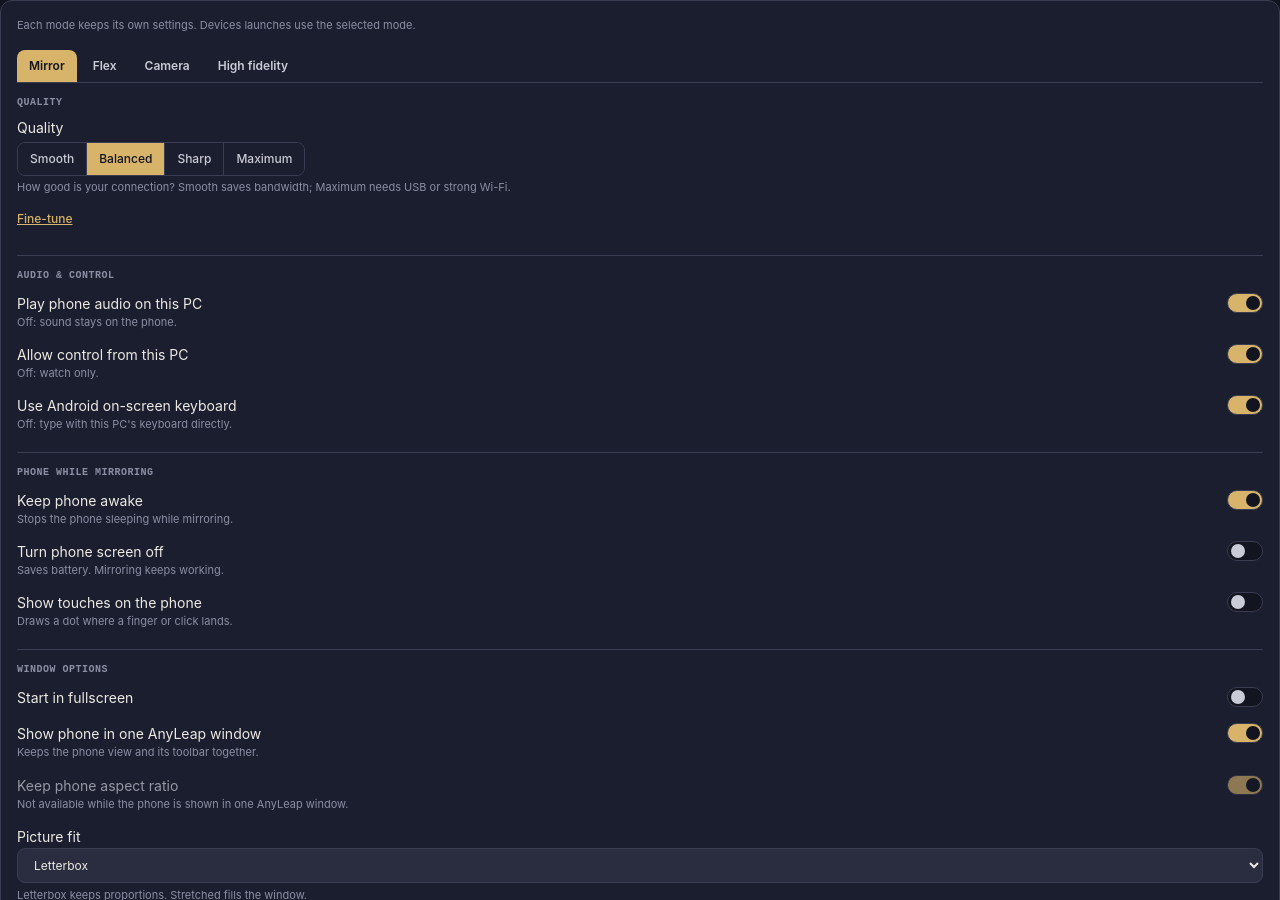
Test: PhoneMirroringSection › renders Scrolling group with style, speed, Touchpad speed, and Smooth scrolling switch, disables controls under Paged, and hides Phase 3
The width and height of the screenshot is (1280, 900).
# High fidelity defaults Smooth scrolling to off.
What coordinates should you click on to do the following:
click the tab "High fidelity"
I would click on:
 (253, 66)
Its box is [206,50,300,82].
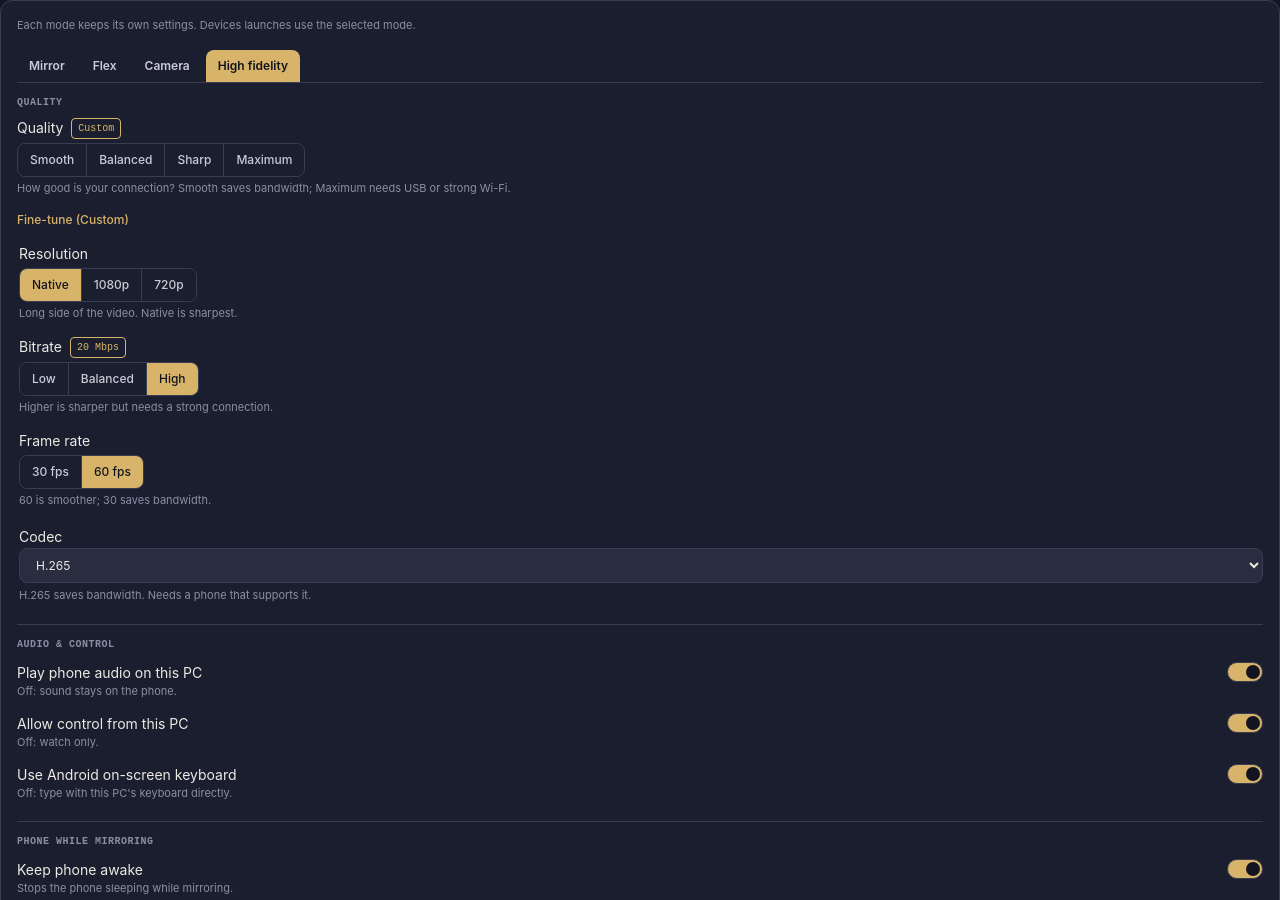
What coordinates should you click on to do the following:
click the tab "Mirror"
I would click on:
 (47, 66)
Its box is [17,50,77,82].
(page scrolled)
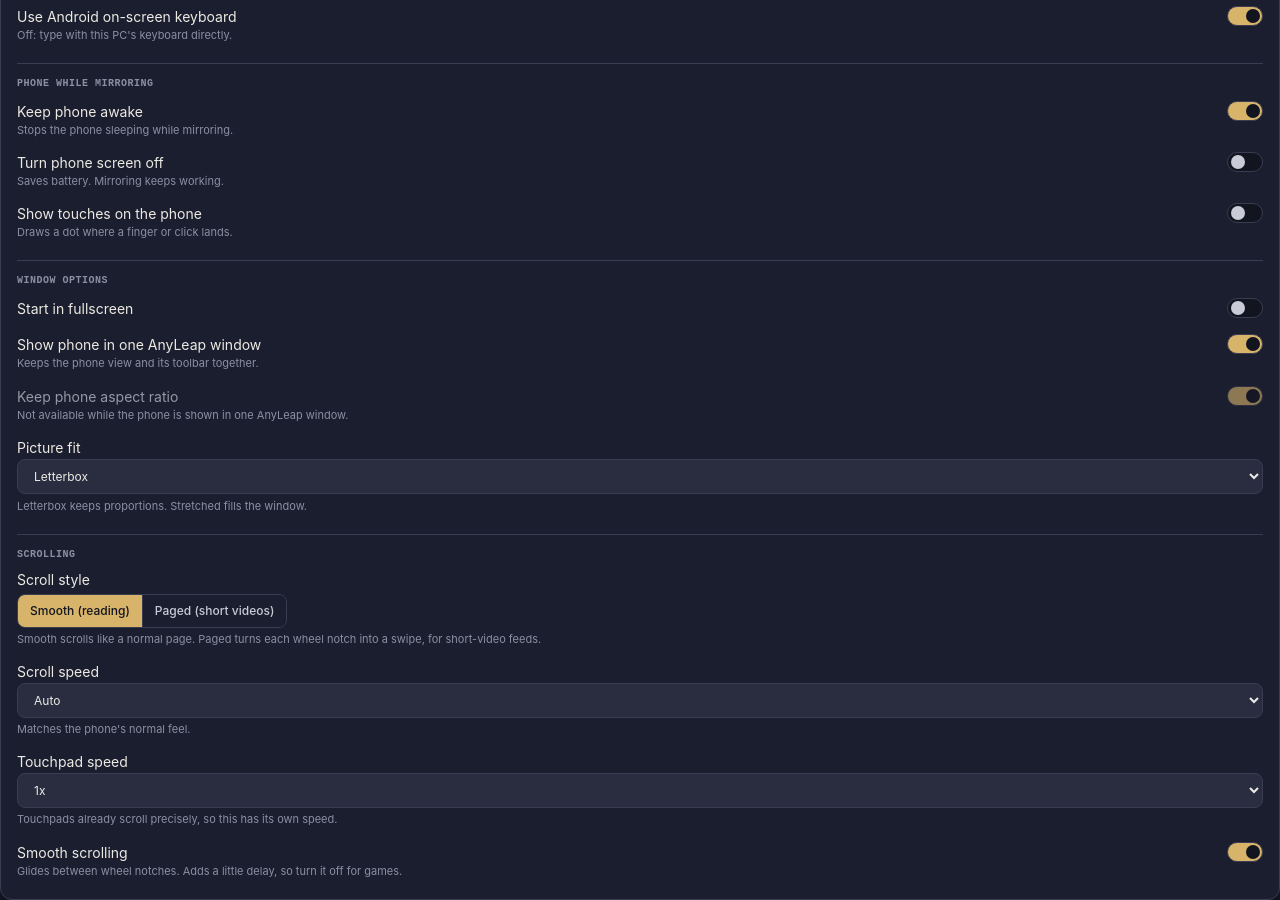
Check: the dropdown labelled "Scroll speed" shows "Auto", box [17,683,1263,718]
Check: the dropdown labelled "Scroll speed" is enabled, box [17,683,1263,718]
Check: the dropdown labelled "Touchpad speed" shows "1x", box [17,773,1263,808]
What coordinates should you click on to do the following:
click the radio button labelled "Paged (short videos)"
I would click on:
 (214, 611)
Its box is [142,595,286,627].
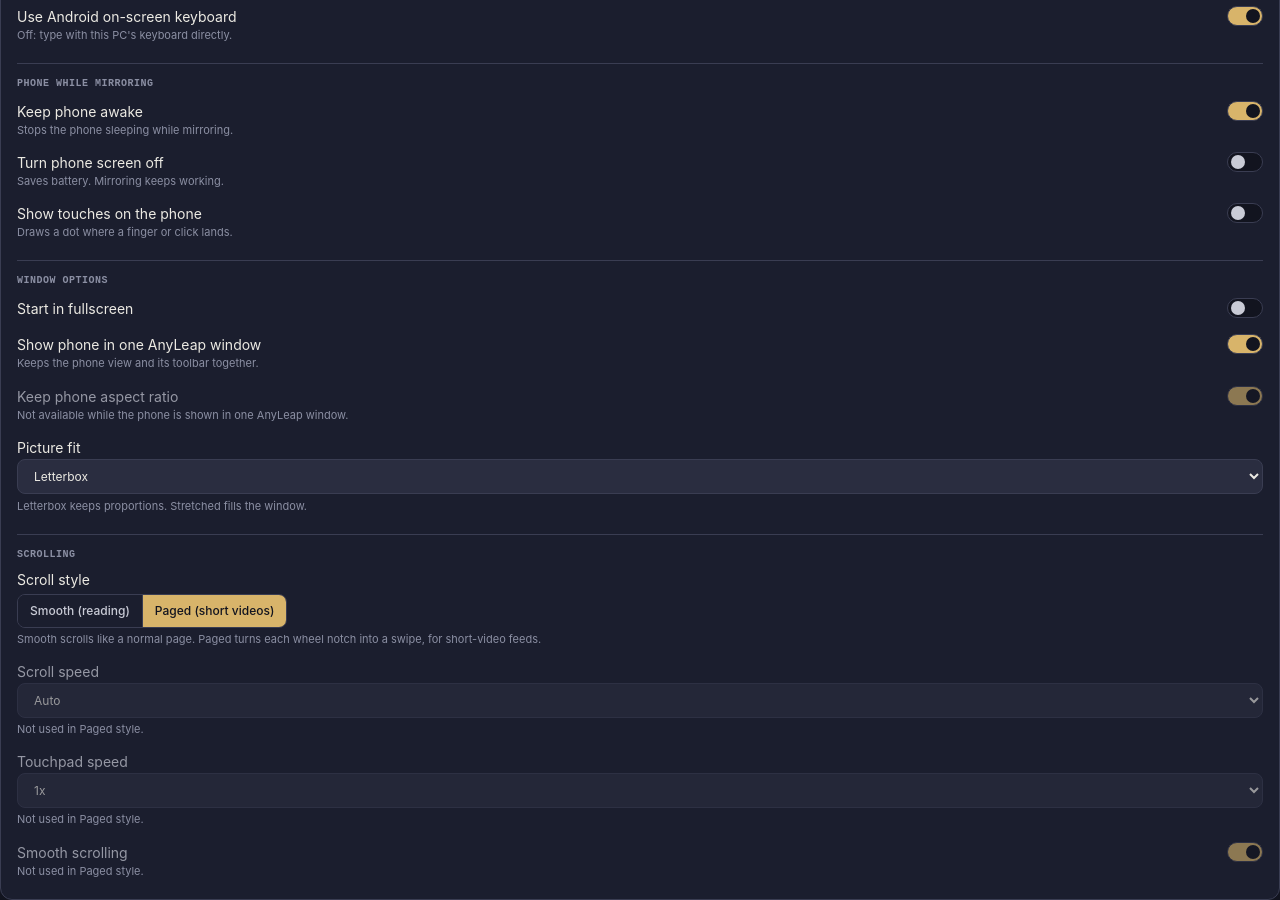
Check: the dropdown labelled "Scroll speed" is disabled, box [17,683,1263,718]
Check: the dropdown labelled "Touchpad speed" is disabled, box [17,773,1263,808]
Check: the switch in the row of "Smooth scrolling" is disabled, box [1227,842,1263,862]
